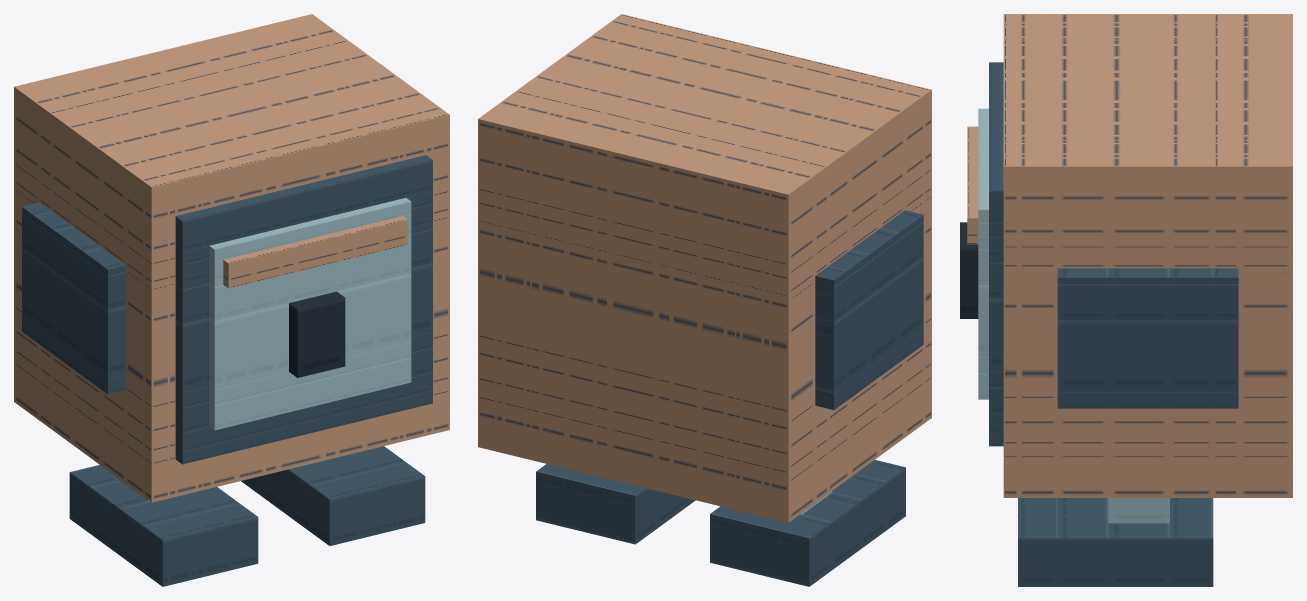
Rendered from sc_lobby_robot_crate.obj.
3 views of the same model, side by side, from view 1: azimuth 30°, elevation 25°; view 2: azimuth 150°, elevation 25°; view 3: azimuth 270°, elevation 25° (orthographic). The views are drawn at different scales.
Bounding box in the file's own units: 11.2 × 13.1 × 9.2.
1 material, 1 textured.
